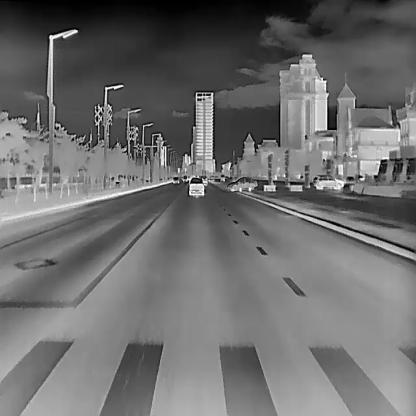car: (312, 173, 342, 190), (226, 176, 256, 191), (188, 177, 203, 197), (200, 174, 206, 186), (172, 176, 178, 184), (181, 176, 188, 181), (220, 174, 224, 180)
